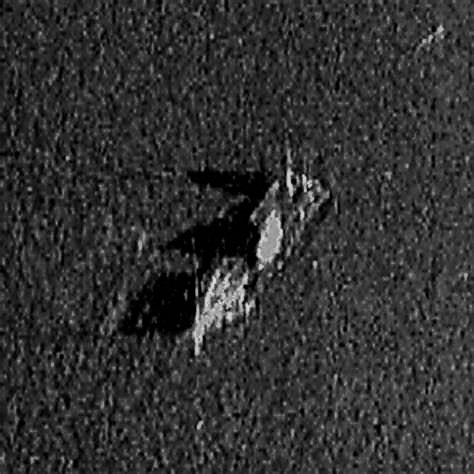ship: (186, 151, 332, 357)
